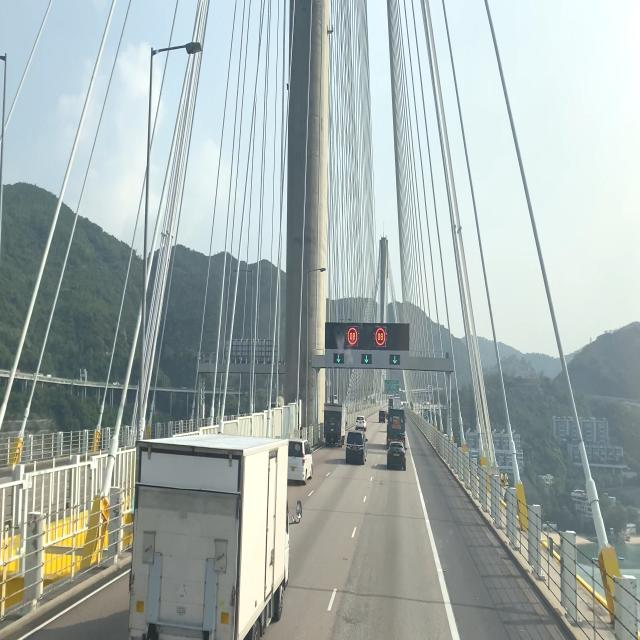Vehicle: (125, 435, 293, 640), (320, 403, 348, 449), (286, 435, 311, 485), (343, 428, 369, 465), (384, 437, 409, 472)
